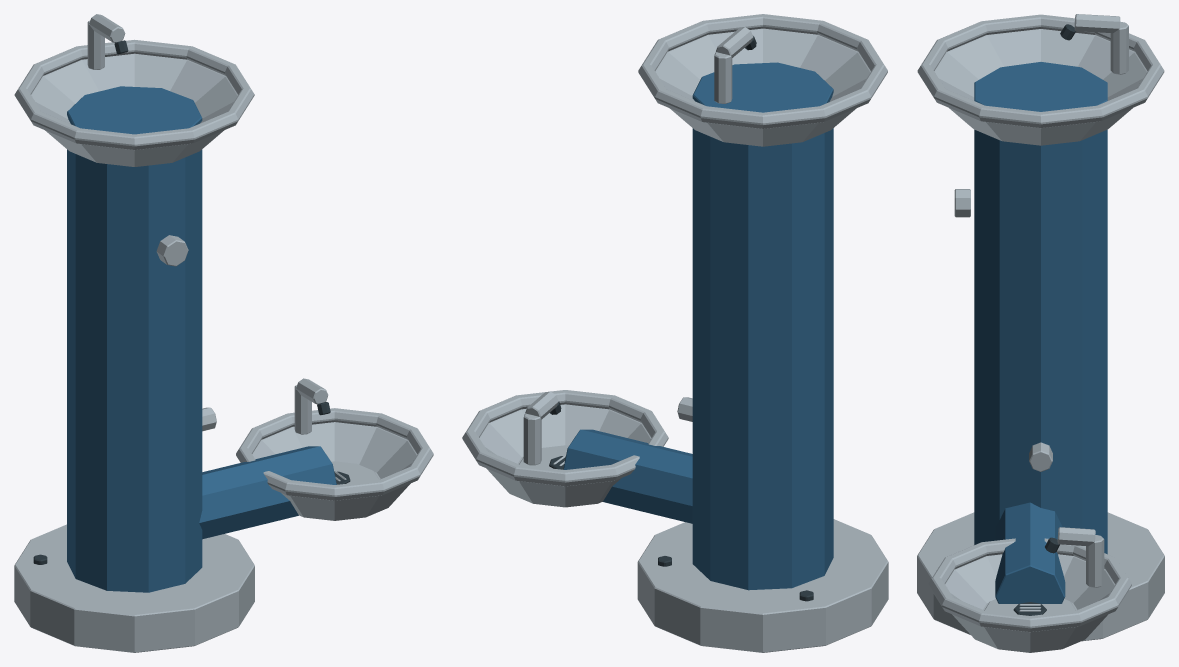
Rendered from b01_people_and_pet_drinking_fountain.glb.
3 renders of one model, left to right at view 1: azimuth 30°, elevation 25°; view 2: azimuth 150°, elevation 25°; view 3: azimuth 270°, elevation 25°, orthographic. The views are drawn at different scales.
Parts seen in each view (by area): view 1: b01_people_and_pet_drinking_fountain; view 2: b01_people_and_pet_drinking_fountain; view 3: b01_people_and_pet_drinking_fountain.
Part boxes in pixels (left/top/right/bottom): b01_people_and_pet_drinking_fountain: left=14, top=14, right=433, bottom=652; b01_people_and_pet_drinking_fountain: left=462, top=14, right=888, bottom=652; b01_people_and_pet_drinking_fountain: left=917, top=14, right=1164, bottom=652.
Size of the model in its own units: 0.849 by 1.19 by 0.46.
